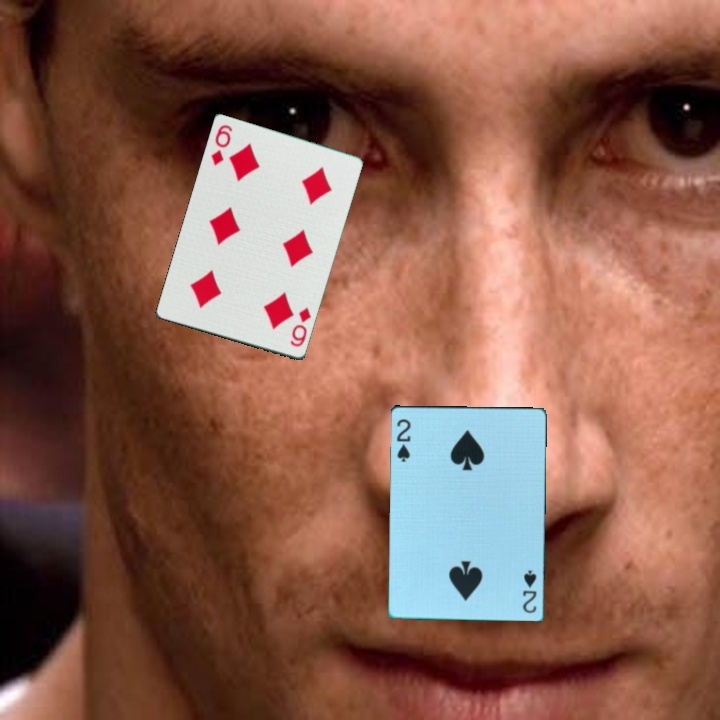2s: (393, 415, 413, 464), (519, 566, 539, 615)
6d: (207, 121, 235, 169), (287, 304, 315, 350)
